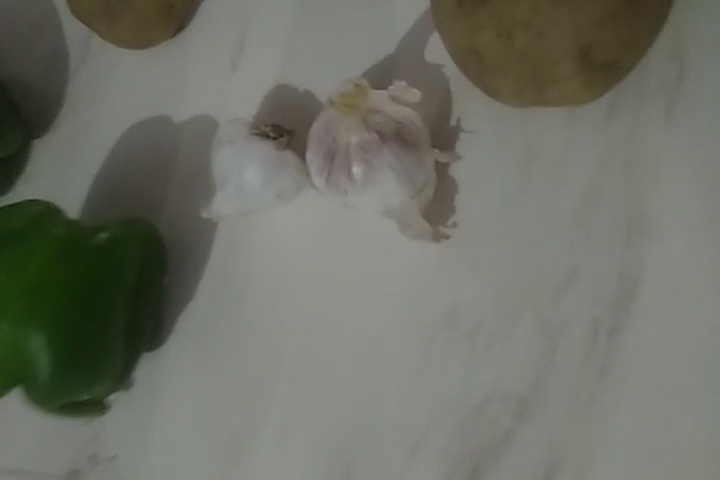capsicum: (1, 205, 172, 419)
garlic: (306, 83, 446, 223), (198, 120, 308, 228)
potato: (422, 1, 664, 113), (66, 1, 208, 53)
